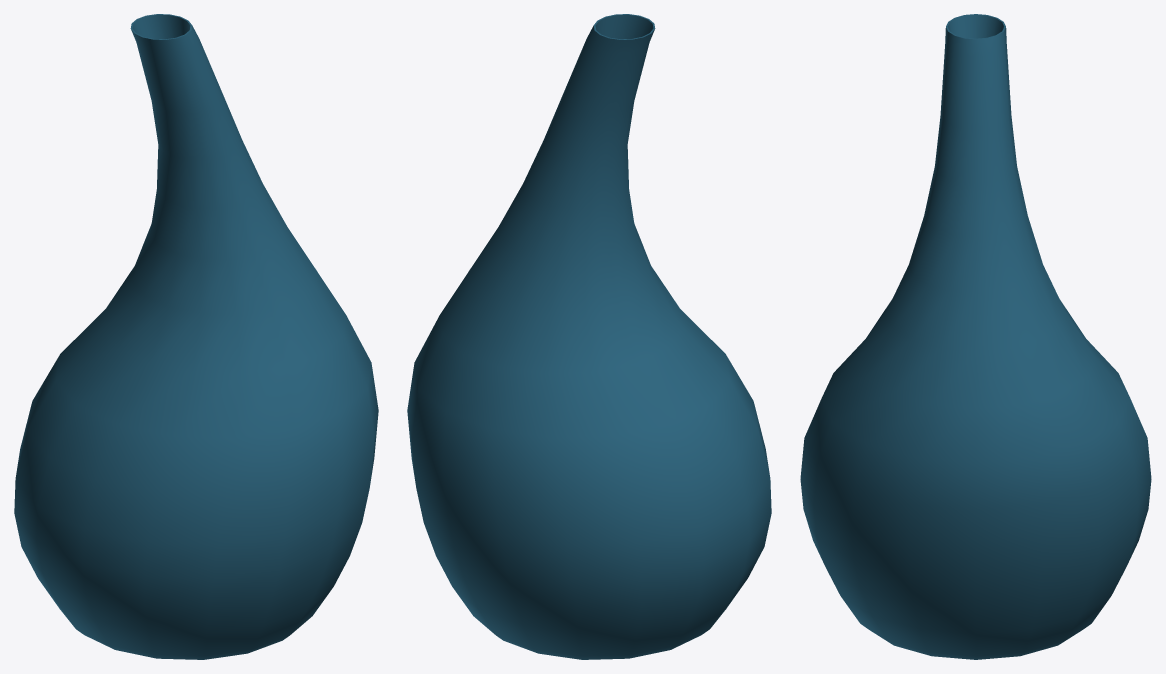
Rendered from vase1.FBX.
3 renders of one model, left to right at view 1: azimuth 30°, elevation 25°; view 2: azimuth 150°, elevation 25°; view 3: azimuth 270°, elevation 25°, orthographic. The views are drawn at different scales.
Visible parts, largest first — view 1: vase1; view 2: vase1; view 3: vase1.
Part boxes in pixels (bbox=[...]): vase1: bbox=[14, 14, 378, 659]; vase1: bbox=[407, 14, 771, 659]; vase1: bbox=[800, 14, 1151, 659].
Size of the model in its own units: 7.02 by 6.88 by 12.36.
Materials: 1 (1 with a texture image).
